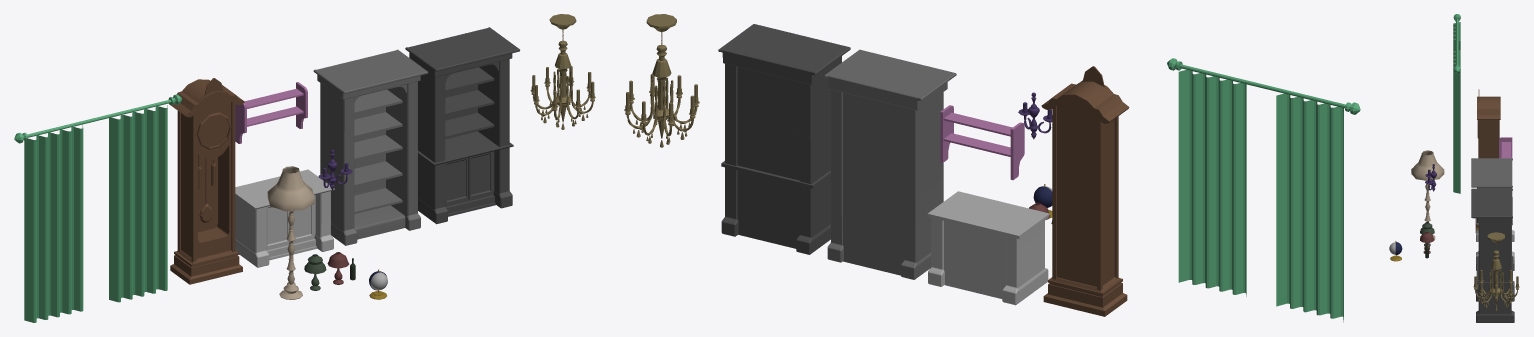
Rendered from Decor_UV.fbx.
3 views of the same model, side by side, from view 1: azimuth 30°, elevation 25°; view 2: azimuth 150°, elevation 25°; view 3: azimuth 270°, elevation 25° (orthographic). The views are drawn at different scales.
Parts seen in each view (by area): view 1: Props_assets:pPlane1, Props_assets:pPlane2, Props_assets:pCube2 (×3), Props_assets:pCube13 (×3), Props_assets:pCube11 (×2), pCube5, Props_assets:pCube10 (×2), pCube6, Props_assets:pCube8 (×2), Props_assets:pCube7 (×2), Props_assets:BigLamp_Shade, Props_assets:pCube9 (×2) (+19 smaller); view 2: Props_assets:pCube5 (×2), Props_assets:pPlane2, Props_assets:pPlane1, Props_assets:pCube2 (×3), Props_assets:pCube11 (×2), pCube5, Props_assets:pCube4 (×2), Props_assets:pCube13 (×3), Props_assets:pCube10 (×2), pCube6, pCube7, pCube12 (+8 smaller); view 3: Props_assets:pCube11 (×2), Props_assets:pCube13, Props_assets:pPlane2, pCube5, Props_assets:BigLamp_Shade, pCube7, Chandelier:Chandelier_MainBody, Props_assets:pCube10, pCube2, Props_assets:pPlane1, Chandelier:Chandelier_Top, pCube3 (+4 smaller).
Boxes of the visible parts, bbox=[...] form: Props_assets:pPlane1: bbox=[24, 125, 83, 322]; Props_assets:pPlane2: bbox=[109, 105, 167, 302]; Props_assets:pCube2 (×3): bbox=[235, 72, 447, 267]; Props_assets:pCube13 (×3): bbox=[314, 59, 512, 251]; Props_assets:pCube11 (×2): bbox=[313, 27, 519, 99]; pCube5: bbox=[181, 98, 231, 258]; Props_assets:pCube10 (×2): bbox=[235, 131, 513, 209]; pCube6: bbox=[170, 250, 242, 284]; Props_assets:pCube8 (×2): bbox=[354, 90, 494, 138]; Props_assets:pCube7 (×2): bbox=[354, 113, 494, 160]; Props_assets:BigLamp_Shade: bbox=[267, 166, 314, 211]; Props_assets:pCube9 (×2): bbox=[354, 67, 494, 114]; Props_assets:pCube5 (×2): bbox=[737, 67, 904, 275]; Props_assets:pPlane2: bbox=[1178, 69, 1246, 296]; Props_assets:pPlane1: bbox=[1276, 93, 1343, 322]; Props_assets:pCube2 (×3): bbox=[796, 76, 1048, 305]; Props_assets:pCube11 (×2): bbox=[718, 24, 956, 110]; pCube5: bbox=[1057, 101, 1114, 286]; Props_assets:pCube4 (×2): bbox=[737, 170, 1005, 298]; Props_assets:pCube13 (×3): bbox=[721, 64, 944, 286]; Props_assets:pCube10 (×2): bbox=[721, 161, 1049, 238]; pCube6: bbox=[1043, 277, 1127, 316]; pCube7: bbox=[1041, 81, 1129, 123]; pCube12: bbox=[1097, 118, 1102, 290]; Props_assets:pCube11 (×2): bbox=[1471, 158, 1512, 223]; Props_assets:pCube13: bbox=[1476, 223, 1514, 322]; Props_assets:pPlane2: bbox=[1453, 50, 1460, 193]; pCube5: bbox=[1480, 120, 1496, 158]; Props_assets:BigLamp_Shade: bbox=[1411, 150, 1444, 180]; pCube7: bbox=[1477, 96, 1500, 119]; Chandelier:Chandelier_MainBody: bbox=[1490, 250, 1502, 301]; Props_assets:pCube10: bbox=[1476, 256, 1512, 284]; pCube2: bbox=[1501, 142, 1511, 157]; Props_assets:pPlane1: bbox=[1453, 22, 1460, 51]; Chandelier:Chandelier_Top: bbox=[1487, 232, 1504, 242]; pCube3: bbox=[1499, 137, 1512, 157].
Bounding box in the file's own units: 162 × 52.64 × 44.22.
